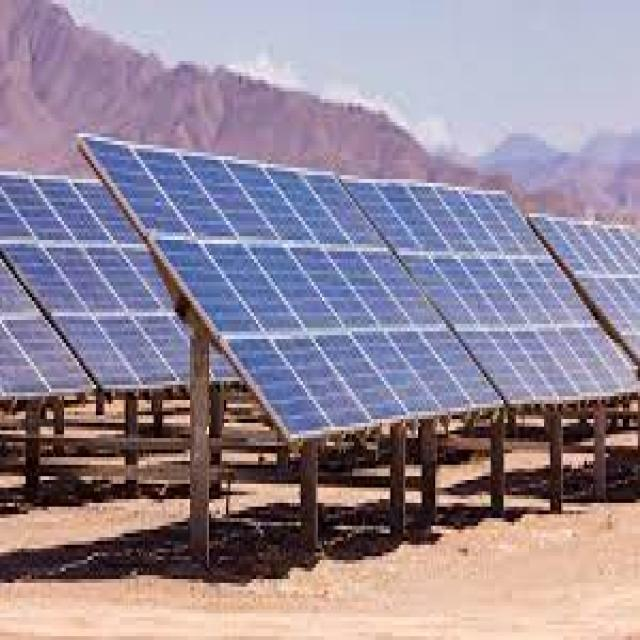clean-solar-panel: (81, 138, 640, 440)
